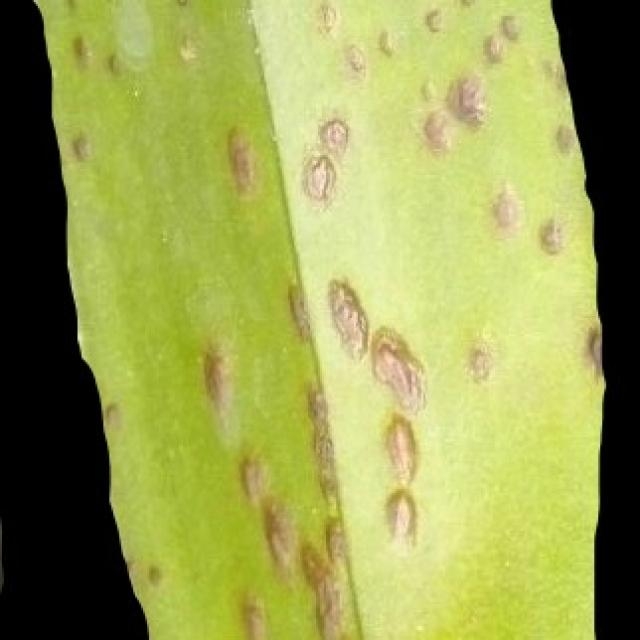mite: (280, 0, 594, 551), (294, 0, 525, 205), (296, 113, 350, 203), (107, 0, 155, 72), (529, 207, 570, 262), (300, 151, 336, 201), (316, 115, 350, 153), (535, 215, 564, 254), (551, 121, 576, 155), (421, 4, 443, 34), (499, 12, 521, 42)
spots: (14, 0, 610, 638)
